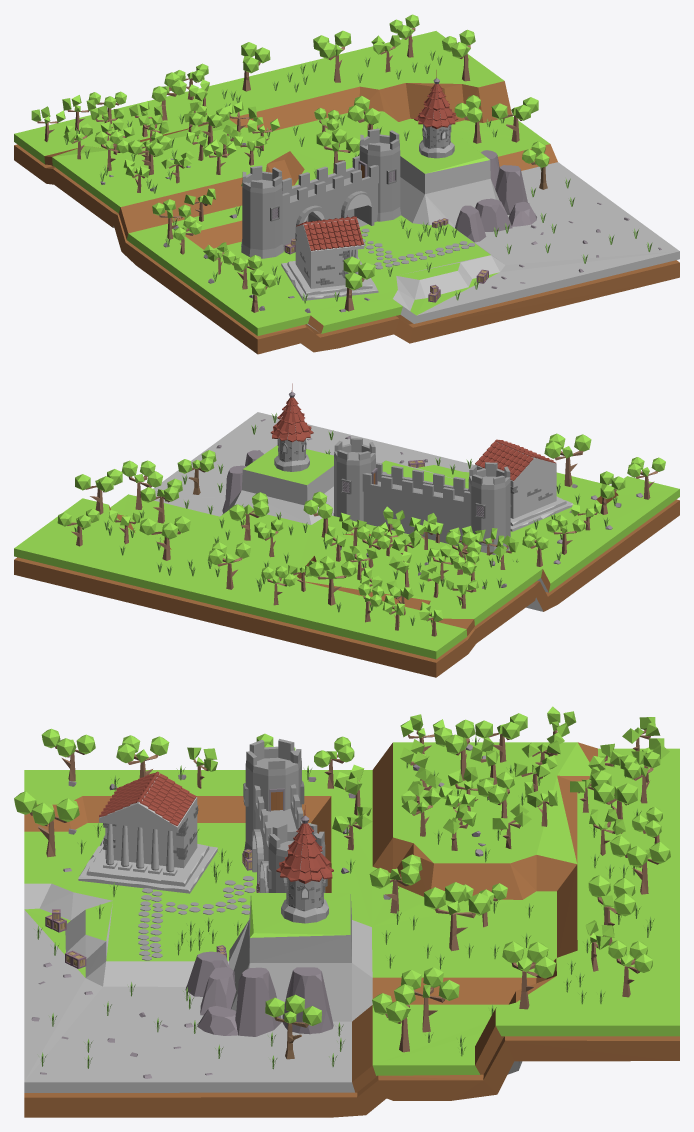
Rendered from uploads_files_6992421_Stylized_Island_Project_v01.fbx.
3 renders of one model, top to bottom at view 1: azimuth 30°, elevation 25°; view 2: azimuth 150°, elevation 25°; view 3: azimuth 270°, elevation 25°, orthographic. The views are drawn at different scales.
Visible parts, largest first — view 1: Island_Base, Tree_Type, Castle_Wall, Stone_Large, Temple, Grass_Tuft, Roof_Tiles, Roof_Tiles.001, Path_Stone, Castle_Tower, Crate_Wood; view 2: Island_Base, Tree_Type, Castle_Wall, Temple, Grass_Tuft, Roof_Tiles, Stone_Large, Roof_Tiles.001, Castle_Tower; view 3: Island_Base, Tree_Type, Stone_Large, Temple, Castle_Wall, Grass_Tuft, Roof_Tiles, Path_Stone, Roof_Tiles.001, Castle_Tower, Crate_Wood.
Part boxes in pixels (left/top/right/bottom): Island_Base: left=14, top=31, right=679, bottom=354; Tree_Type: left=31, top=14, right=549, bottom=312; Castle_Wall: left=241, top=128, right=401, bottom=258; Stone_Large: left=100, top=143, right=661, bottom=312; Temple: left=281, top=219, right=378, bottom=300; Grass_Tuft: left=64, top=50, right=652, bottom=303; Roof_Tiles: left=296, top=216, right=363, bottom=250; Roof_Tiles.001: left=414, top=70, right=458, bottom=128; Path_Stone: left=361, top=228, right=474, bottom=269; Castle_Tower: left=419, top=78, right=454, bottom=158; Crate_Wood: left=284, top=214, right=488, bottom=302; Island_Base: left=14, top=412, right=679, bottom=677; Tree_Type: left=57, top=433, right=665, bottom=636; Castle_Wall: left=333, top=438, right=510, bottom=554; Temple: left=475, top=442, right=573, bottom=531; Grass_Tuft: left=73, top=413, right=617, bottom=626; Roof_Tiles: left=475, top=439, right=555, bottom=480; Stone_Large: left=216, top=419, right=643, bottom=588; Roof_Tiles.001: left=270, top=383, right=313, bottom=442; Castle_Tower: left=274, top=392, right=309, bottom=471; Island_Base: left=24, top=742, right=679, bottom=1117; Tree_Type: left=14, top=706, right=670, bottom=1059; Stone_Large: left=31, top=744, right=489, bottom=1078; Temple: left=78, top=774, right=217, bottom=893; Castle_Wall: left=244, top=739, right=325, bottom=892; Grass_Tuft: left=34, top=736, right=654, bottom=1069; Roof_Tiles: left=99, top=771, right=196, bottom=825; Path_Stone: left=138, top=876, right=255, bottom=960; Roof_Tiles.001: left=276, top=805, right=333, bottom=883; Castle_Tower: left=281, top=815, right=328, bottom=923; Crate_Wood: left=45, top=849, right=259, bottom=968.
Bounding box in the file's own units: 2000 × 750 × 2031.
